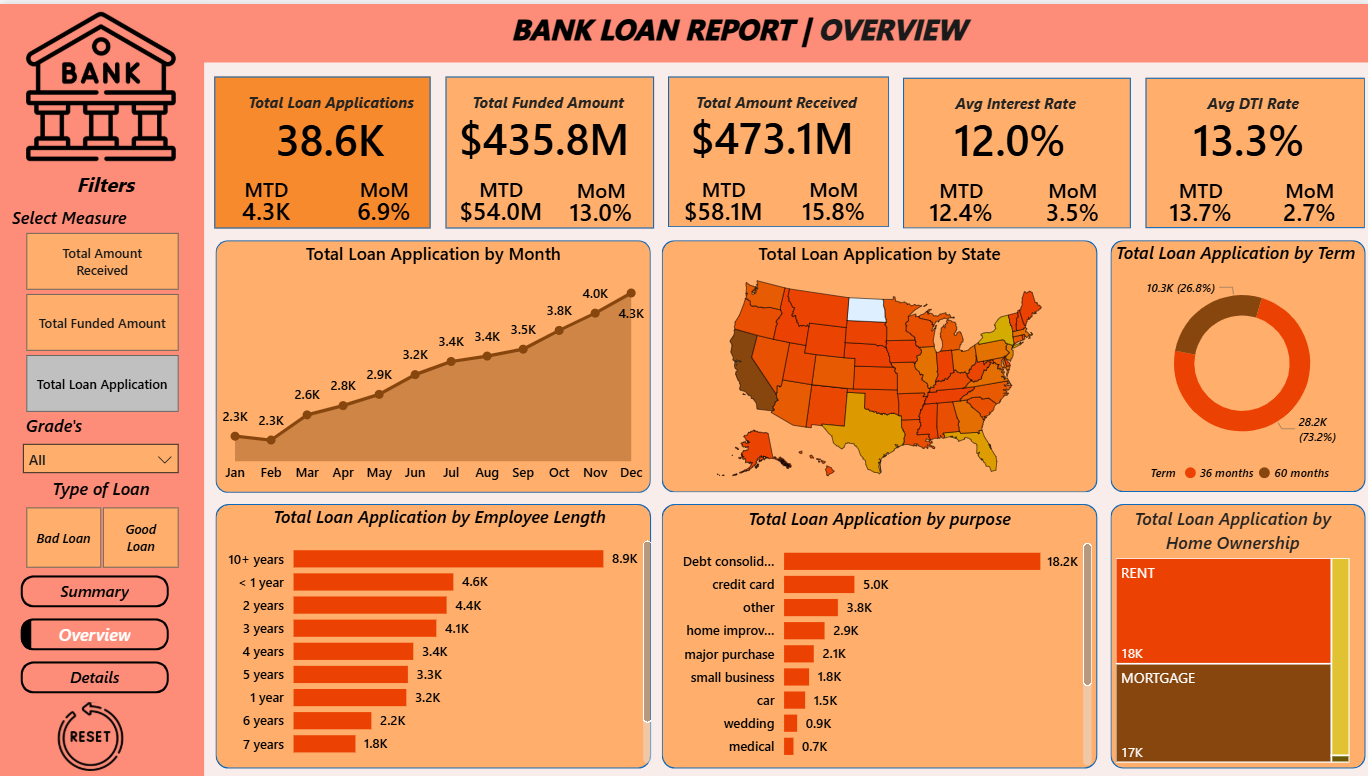

The page's visual inventory and layout, read from the dashboard file:
{"tool":"powerbi","page":{"name":"Overview","canvas":[1280,720],"ordinal":1},"visuals":[{"type":"shape","box":[202.6,219.4,405,235],"z":0},{"type":"shape","box":[0,0,1280,54.5],"z":1000},{"type":"shape","box":[416,67.1,194.1,141.4],"z":1000,"group":"g1"},{"type":"shape","box":[623.5,67.1,205.8,140.3],"z":1000,"group":"g2"},{"type":"shape","box":[842.3,68.1,212,140.3],"z":1000,"group":"g3"},{"type":"shape","box":[1067.3,68.1,204.2,139.9],"z":1000,"group":"g4"},{"type":"shape","box":[201.3,67.1,201.3,141.4],"z":2000},{"type":"shape","box":[0,0,191.7,720.5],"z":3000},{"type":"textbox","box":[343,0,691.7,85.2],"z":4000},{"type":"card","title":"MTD","fields":{"Values":["financial_loan.MTD Funded Amount"]},"box":[422.9,158.9,89.8,49.5],"z":4000,"group":"g1"},{"type":"card","title":"MTD","fields":{"Values":["financial_loan.MTD Amount Received"]},"box":[630.9,159,89.6,48.4],"z":4000,"group":"g2"},{"type":"card","title":"MTD","fields":{"Values":["financial_loan.MTD Funded Amount"]},"box":[208.6,159.5,83.2,49.5],"z":4000,"group":"g5"},{"type":"card","title":"MTD","fields":{"Values":["financial_loan.MTD Avg DTI"]},"box":[1074.6,159.7,88.9,48.2],"z":4000,"group":"g4"},{"type":"card","title":"MTD","fields":{"Values":["financial_loan.MTD Avg Interest Rate"]},"box":[849.9,160,92.3,48.4],"z":4000,"group":"g3"},{"type":"textbox","box":[52.4,150.2,94.9,45.5],"z":5000},{"type":"card","title":"MoM","fields":{"Values":["financial_loan.MOM Loan Applications"]},"box":[318,159,83.6,49.5],"z":5000,"group":"g5"},{"type":"card","title":"MoM","fields":{"Values":["financial_loan.MoM Amount Received"]},"box":[734.7,159,85.2,48.4],"z":5000,"group":"g2"},{"type":"card","title":"MoM","fields":{"Values":["financial_loan.MOM Funded Amount"]},"box":[520.8,159.7,80.4,48.8],"z":5000,"group":"g1"},{"type":"card","title":"MoM","fields":{"Values":["financial_loan.MoM Avg DTI"]},"box":[1177.6,159.7,84.6,48.2],"z":5000,"group":"g4"},{"type":"card","title":"MoM","fields":{"Values":["financial_loan.MOM Avg Interest Rate"]},"box":[956.8,160,87.8,48.4],"z":5000,"group":"g3"},{"type":"group","id":"g1","title":"Group 1","box":[416,67.1,194.1,141.4],"z":6000},{"type":"textbox","box":[217.8,76.4,184.8,45.4],"z":6000,"group":"g5"},{"type":"group","id":"g2","title":"Group 1","box":[623.5,67.1,205.4,140.4],"z":7000},{"type":"textbox","box":[630.9,76.4,187.9,44.8],"z":7000,"group":"g2"},{"type":"textbox","box":[422.9,76.5,177.2,45.2],"z":7000,"group":"g1"},{"type":"textbox","box":[849.9,77.4,193.6,44.8],"z":7000,"group":"g3"},{"type":"textbox","box":[1074.6,77.4,186.5,44.7],"z":7000,"group":"g4"},{"type":"card","fields":{"Values":["financial_loan.Total Loan Application"]},"box":[200.3,99.1,217.8,50.6],"z":7000,"group":"g5"},{"type":"group","id":"g3","title":"Group 1","box":[842.3,68.1,211.6,140.4],"z":8000},{"type":"card","fields":{"Values":["financial_loan.Total Amount Received"]},"box":[630.8,98.5,179.8,50.5],"z":8000,"group":"g2"},{"type":"card","fields":{"Values":["financial_loan.Total Funded Amount"]},"box":[422.9,98.8,169.6,50.9],"z":8000,"group":"g1"},{"type":"card","fields":{"Values":["financial_loan.Avg DTI"]},"box":[1074.5,99.4,178.5,50.4],"z":8000,"group":"g4"},{"type":"card","fields":{"Values":["financial_loan.Avg Interest Rate"]},"box":[849.8,99.5,185.2,50.5],"z":8000,"group":"g3"},{"type":"group","id":"g4","title":"Group 1","box":[1067.3,68.1,204.4,140.4],"z":9000},{"type":"group","id":"g5","title":"Group 2","box":[200.3,76.4,217.8,132.6],"z":10000},{"type":"slicer","fields":{"Values":["financial_loan.grade"]},"box":[12.8,375.6,165.1,79.1],"z":11000},{"type":"slicer","title":"Type of Loan","fields":{"Values":["financial_loan.Good VS Bad Loan"]},"box":[0,439.8,191.7,91.9],"z":12000},{"type":"actionButton","box":[34.6,642.5,96.9,77.1],"z":13000},{"type":"image","box":[19.8,2,152.2,149.2],"z":14000},{"type":"areaChart","fields":{"Y":["financial_loan.Total Loan Application"],"Category":["Date Table.Month"]},"box":[202.1,220.4,405.3,233.6],"z":15000},{"type":"slicer","fields":{"Values":["Select Measure.Select Measure"]},"box":[0,182.9,191.7,203.6],"z":16000},{"type":"shape","box":[617.6,219.4,405.3,234.6],"z":17000},{"type":"shapeMap","fields":{"Value":["financial_loan.Total Loan Application"],"Category":["financial_loan.address_state"]},"box":[617.7,220.4,405.2,233.3],"z":18000},{"type":"shape","box":[1034.8,219.4,237.2,234.2],"z":19000},{"type":"donutChart","fields":{"Y":["financial_loan.Total Loan Application"],"Category":["financial_loan.term"]},"box":[1034.8,219.4,245.1,234.2],"z":20000},{"type":"shape","box":[202.6,464.5,405.2,246.1],"z":21000},{"type":"barChart","fields":{"Y":["financial_loan.Total Loan Application"],"Category":["financial_loan.emp_length"]},"box":[208.6,464.5,405.2,246.1],"z":22000},{"type":"shape","box":[617.7,464.5,405.2,246.1],"z":23000},{"type":"barChart","fields":{"Y":["financial_loan.Total Loan Application"],"Category":["financial_loan.purpose"]},"box":[617.7,467.5,405.2,246.1],"z":24000},{"type":"shape","box":[1034.8,464.5,237.2,246.1],"z":25000},{"type":"treemap","fields":{"Values":["financial_loan.Total Loan Application"],"Group":["financial_loan.home_ownership"]},"box":[1034.8,467.5,227.3,243.1],"z":26000},{"type":"pageNavigator","box":[20.8,531.8,138.4,110.7],"z":27000}]}

Visuals, with their boxes in screenshot pixels (x1, y1, x2, y2), scaled from the page's 1280x720 canvas onto the 1368x776 screenshot:
shape: crop(217, 236, 649, 490)
shape: crop(0, 0, 1367, 59)
shape: crop(445, 72, 652, 225)
shape: crop(666, 72, 886, 224)
shape: crop(900, 73, 1127, 225)
shape: crop(1141, 73, 1359, 224)
shape: crop(215, 72, 430, 225)
shape: crop(0, 0, 205, 775)
textbox: crop(367, 0, 1106, 92)
"MTD" card: crop(452, 171, 548, 225)
"MTD" card: crop(674, 171, 770, 224)
"MTD" card: crop(223, 172, 312, 225)
"MTD" card: crop(1148, 172, 1243, 224)
"MTD" card: crop(908, 172, 1007, 225)
textbox: crop(56, 162, 157, 211)
"MoM" card: crop(340, 171, 429, 225)
"MoM" card: crop(785, 171, 876, 224)
"MoM" card: crop(557, 172, 643, 225)
"MoM" card: crop(1259, 172, 1349, 224)
"MoM" card: crop(1023, 172, 1116, 225)
"Group 1" group: crop(445, 72, 652, 225)
textbox: crop(233, 82, 430, 131)
"Group 1" group: crop(666, 72, 886, 224)
textbox: crop(674, 82, 875, 131)
textbox: crop(452, 82, 641, 131)
textbox: crop(908, 83, 1115, 132)
textbox: crop(1148, 83, 1348, 132)
card - financial_loan.Total Loan Application: crop(214, 107, 447, 161)
"Group 1" group: crop(900, 73, 1126, 225)
card - financial_loan.Total Amount Received: crop(674, 106, 866, 161)
card - financial_loan.Total Funded Amount: crop(452, 106, 633, 161)
card - financial_loan.Avg DTI: crop(1148, 107, 1339, 161)
card - financial_loan.Avg Interest Rate: crop(908, 107, 1106, 162)
"Group 1" group: crop(1141, 73, 1359, 225)
"Group 2" group: crop(214, 82, 447, 225)
slicer - financial_loan.grade: crop(14, 405, 190, 490)
"Type of Loan" slicer: crop(0, 474, 205, 573)
actionButton: crop(37, 692, 141, 775)
image: crop(21, 2, 184, 163)
areaChart - financial_loan.Total Loan Application x Date Table.Month: crop(216, 238, 649, 489)
slicer - Select Measure.Select Measure: crop(0, 197, 205, 417)
shape: crop(660, 236, 1093, 489)
shapeMap - financial_loan.Total Loan Application x financial_loan.address_state: crop(660, 238, 1093, 489)
shape: crop(1106, 236, 1359, 489)
donutChart - financial_loan.Total Loan Application x financial_loan.term: crop(1106, 236, 1367, 489)
shape: crop(217, 501, 650, 766)
barChart - financial_loan.Total Loan Application x financial_loan.emp_length: crop(223, 501, 656, 766)
shape: crop(660, 501, 1093, 766)
barChart - financial_loan.Total Loan Application x financial_loan.purpose: crop(660, 504, 1093, 769)
shape: crop(1106, 501, 1359, 766)
treemap - financial_loan.Total Loan Application x financial_loan.home_ownership: crop(1106, 504, 1349, 766)
pageNavigator: crop(22, 573, 170, 692)
